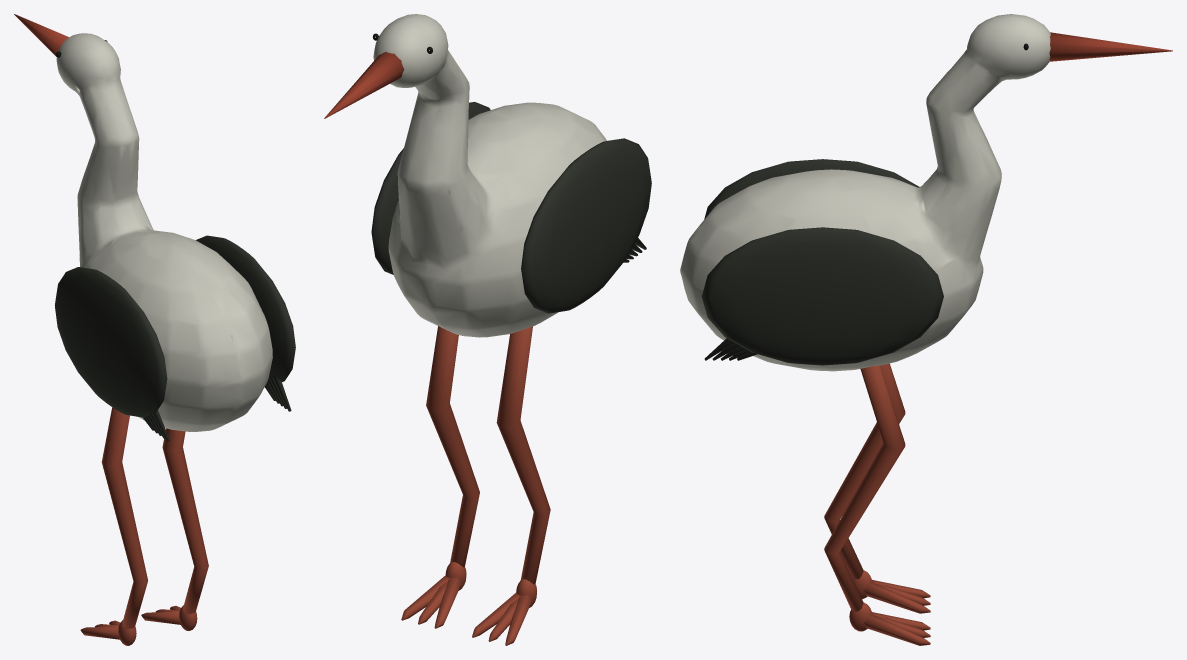
The model's file is animal_stork.glb.
3 renders of one model, left to right at view 1: azimuth 30°, elevation 25°; view 2: azimuth 150°, elevation 25°; view 3: azimuth 270°, elevation 25°, orthographic. The views are drawn at different scales.
Visible parts, largest first — view 1: Body, FoldedWings, LegFL, LegFR; view 2: Body, FoldedWings, LegFL, LegFR; view 3: Body, FoldedWings, LegFR, LegFL.
Part boxes in pixels (<box>): Body: <box>14,14,272,431</box>; FoldedWings: <box>55,235,295,441</box>; LegFL: <box>80,407,147,645</box>; LegFR: <box>141,428,208,630</box>; Body: <box>324,14,606,337</box>; FoldedWings: <box>371,102,651,313</box>; LegFL: <box>472,326,550,645</box>; LegFR: <box>401,326,479,628</box>; Body: <box>680,14,1172,371</box>; FoldedWings: <box>702,159,943,365</box>; LegFR: <box>824,365,930,645</box>; LegFL: <box>824,363,930,613</box>.
Bounding box in the file's own units: 0.43 × 1.49 × 1.1.
